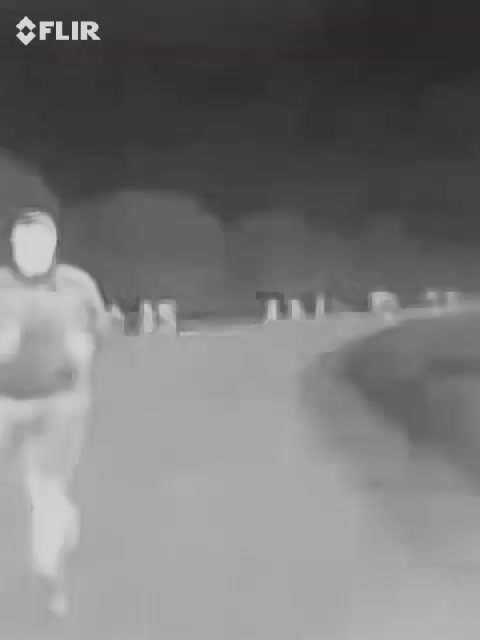head: (7, 209, 70, 285)
